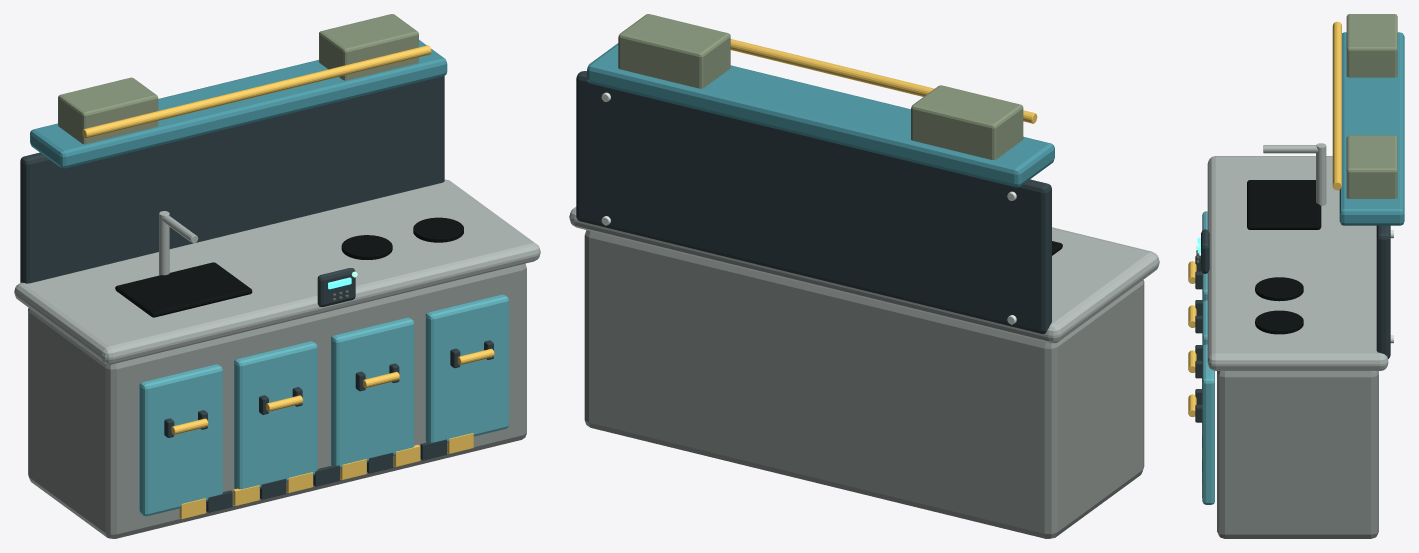
The model's file is 07_galley_counter_sink_2x0p7m.glb.
3 views of the same model, side by side, from view 1: azimuth 30°, elevation 25°; view 2: azimuth 150°, elevation 25°; view 3: azimuth 270°, elevation 25° (orthographic). The views are drawn at different scales.
Visible parts, largest first — view 1: GALLEY_Back_Splash_Panel, GALLEY_Lower_Counter_Body, GALLEY_Countertop_Steel, GALLEY_Upper_Wall_Shelf, GALLEY_Cupboard_Door_0, GALLEY_Cupboard_Door_3, GALLEY_Cupboard_Door_1, GALLEY_Cupboard_Door_2, GALLEY_Upper_Storage_Box_0, GALLEY_Sink_Recess_Black, GALLEY_Upper_Storage_Box_1, GALLEY_Shelf_Front_Rail (+4 smaller); view 2: GALLEY_Lower_Counter_Body, GALLEY_Back_Splash_Panel, GALLEY_Upper_Wall_Shelf, GALLEY_Countertop_Steel, GALLEY_Upper_Storage_Box_1, GALLEY_Upper_Storage_Box_0, GALLEY_Shelf_Front_Rail; view 3: GALLEY_Countertop_Steel, GALLEY_Lower_Counter_Body, GALLEY_Upper_Wall_Shelf, GALLEY_Sink_Recess_Black, GALLEY_Upper_Storage_Box_0, GALLEY_Upper_Storage_Box_1, GALLEY_Back_Splash_Panel, GALLEY_Cupboard_Door_3, GALLEY_Shelf_Front_Rail, GALLEY_Right_Burner_Disk, GALLEY_Left_Burner_Disk, GALLEY_Faucet_Vertical_Pipe (+2 smaller).
Boxes of the visible parts, <box> form: GALLEY_Back_Splash_Panel: <box>20,76,444,283</box>; GALLEY_Lower_Counter_Body: <box>28,263,526,538</box>; GALLEY_Countertop_Steel: <box>14,179,540,364</box>; GALLEY_Upper_Wall_Shelf: <box>30,40,447,168</box>; GALLEY_Cupboard_Door_0: <box>139,364,222,516</box>; GALLEY_Cupboard_Door_3: <box>425,294,508,442</box>; GALLEY_Cupboard_Door_1: <box>234,341,317,489</box>; GALLEY_Cupboard_Door_2: <box>331,317,414,469</box>; GALLEY_Upper_Storage_Box_0: <box>58,77,158,144</box>; GALLEY_Sink_Recess_Black: <box>115,262,252,317</box>; GALLEY_Upper_Storage_Box_1: <box>319,14,418,80</box>; GALLEY_Shelf_Front_Rail: <box>82,45,431,138</box>; GALLEY_Lower_Counter_Body: <box>584,230,1144,538</box>; GALLEY_Back_Splash_Panel: <box>576,71,1051,333</box>; GALLEY_Upper_Wall_Shelf: <box>587,43,1054,187</box>; GALLEY_Countertop_Steel: <box>569,207,1159,343</box>; GALLEY_Upper_Storage_Box_1: <box>618,14,730,88</box>; GALLEY_Upper_Storage_Box_0: <box>911,85,1023,159</box>; GALLEY_Shelf_Front_Rail: <box>730,39,1037,123</box>; GALLEY_Countertop_Steel: <box>1207,156,1388,370</box>; GALLEY_Lower_Counter_Body: <box>1217,371,1378,538</box>; GALLEY_Upper_Wall_Shelf: <box>1339,32,1404,225</box>; GALLEY_Sink_Recess_Black: <box>1247,180,1321,229</box>; GALLEY_Upper_Storage_Box_0: <box>1346,14,1397,77</box>; GALLEY_Upper_Storage_Box_1: <box>1346,135,1397,198</box>; GALLEY_Back_Splash_Panel: <box>1376,225,1390,358</box>; GALLEY_Cupboard_Door_3: <box>1202,344,1214,504</box>; GALLEY_Shelf_Front_Rail: <box>1332,21,1341,190</box>; GALLEY_Right_Burner_Disk: <box>1255,310,1303,334</box>; GALLEY_Left_Burner_Disk: <box>1255,277,1303,301</box>; GALLEY_Faucet_Vertical_Pipe: <box>1316,143,1326,205</box>.
Size of the model in its own units: 2.08 by 1.68 by 0.933.
